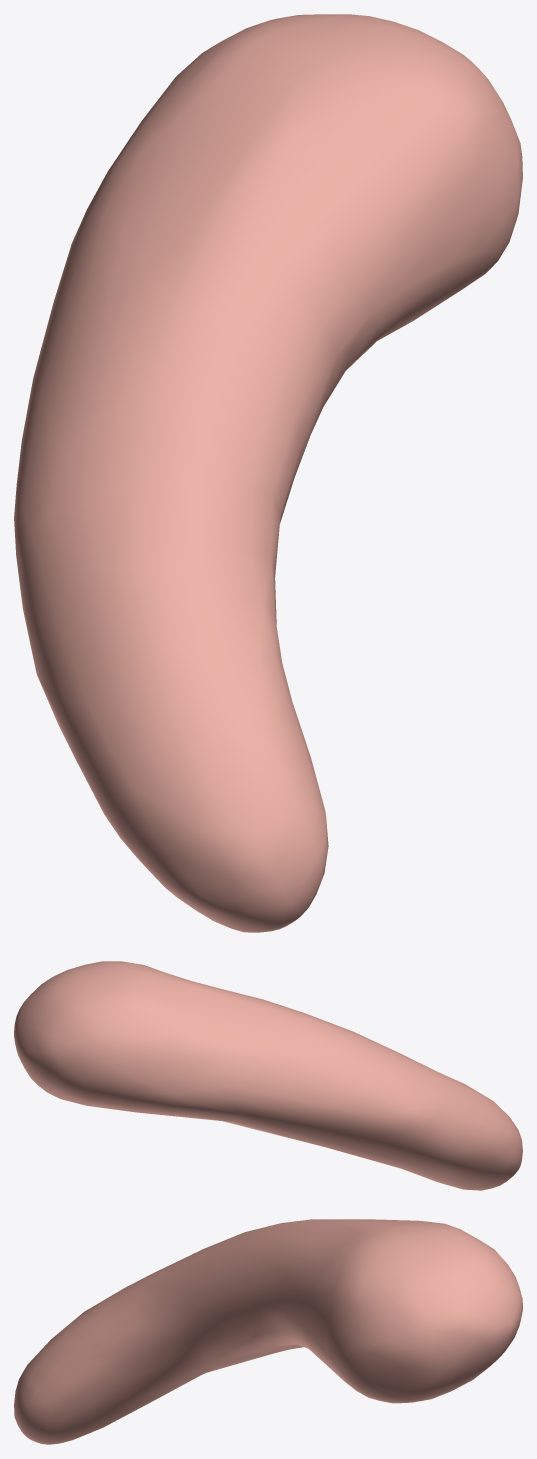
Rendered from pv-right-superior.glb.
3 views of the same model, one above another, from view 1: azimuth 30°, elevation 25°; view 2: azimuth 150°, elevation 25°; view 3: azimuth 270°, elevation 25° (orthographic). The views are drawn at different scales.
Visible parts, largest first — view 1: structure; view 2: structure; view 3: structure.
Boxes of the visible parts, x1,y1,x2,y2 form: structure: [14, 14, 522, 932]; structure: [14, 961, 522, 1190]; structure: [14, 1219, 522, 1444].
Size of the model in its own units: 23.14 by 18.14 by 26.8.
